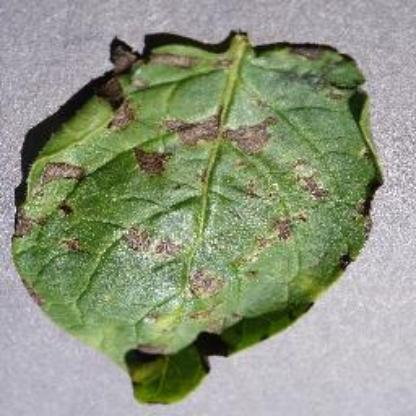Early-Blight: (9, 20, 410, 411)
